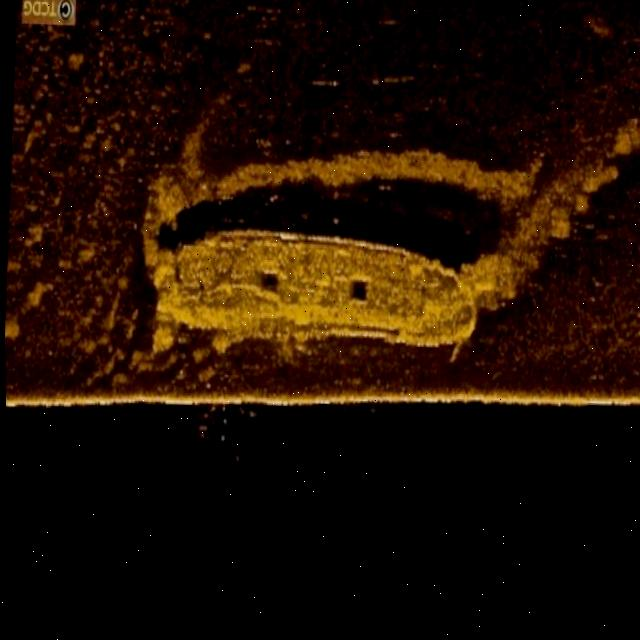shipwreck: (141, 215, 480, 378)
